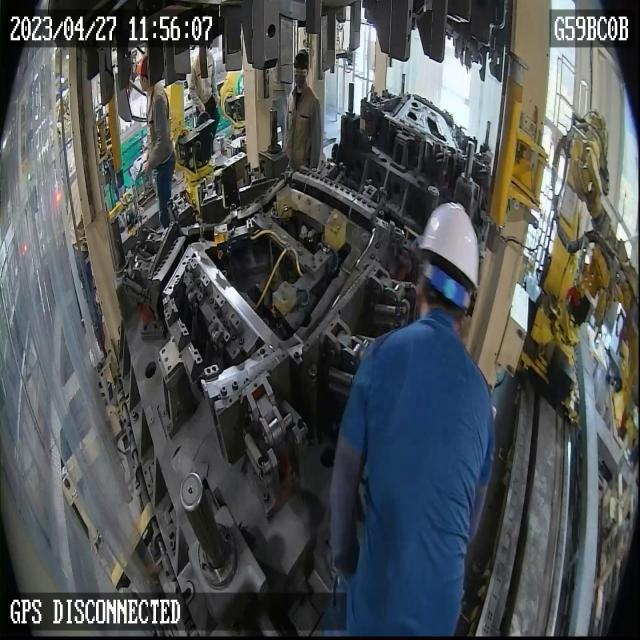Person: (328, 201, 496, 638), (135, 54, 176, 230), (283, 49, 322, 171), (189, 42, 220, 136)
